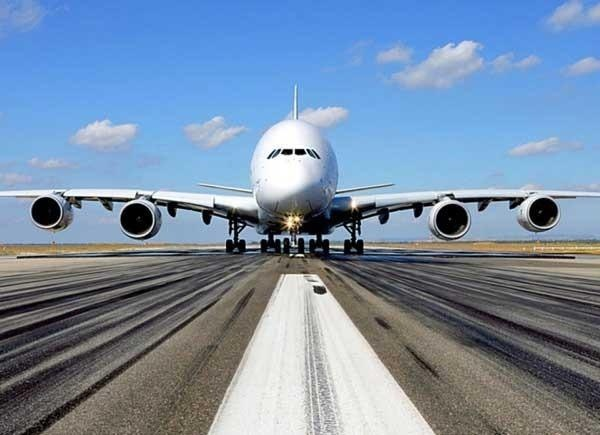airplane: (1, 81, 600, 233)
